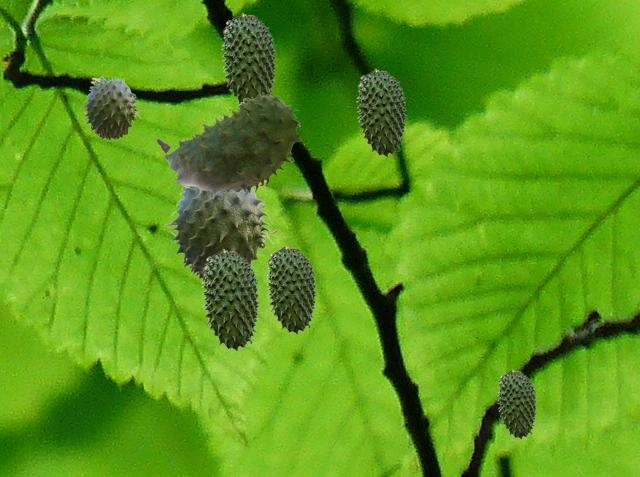guyabano: (156, 94, 301, 198), (164, 186, 279, 281), (201, 248, 259, 350), (221, 12, 276, 104), (356, 68, 406, 156), (266, 245, 316, 333), (80, 75, 143, 139), (497, 369, 536, 438)
